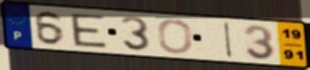3: (242, 23, 277, 61), (119, 16, 152, 52)
6: (33, 10, 67, 46)
E: (68, 12, 109, 50)
I: (223, 21, 235, 59)
O: (157, 18, 194, 55)
